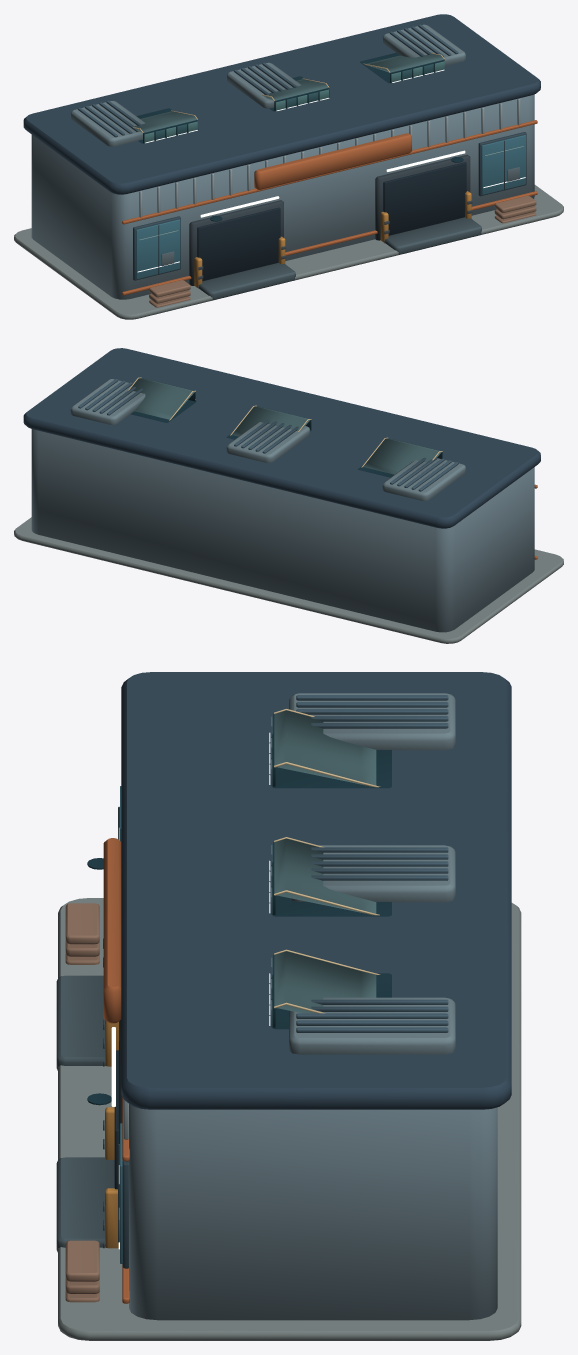
The model's file is metro_logistics.glb.
The picture shows the model from 3 angles, top to bottom: view 1: azimuth 30°, elevation 25°; view 2: azimuth 150°, elevation 25°; view 3: azimuth 270°, elevation 25°; orthographic projection. The views are drawn at different scales.
Parts seen in each view (by area): view 1: Logistics; view 2: Logistics; view 3: Logistics.
Boxes of the visible parts, x1,y1,x2,y2 form: Logistics: (14, 14, 563, 319); Logistics: (14, 348, 563, 643); Logistics: (56, 672, 521, 1340).
Size of the model in its own units: 21.8 by 6.3 by 9.83.
